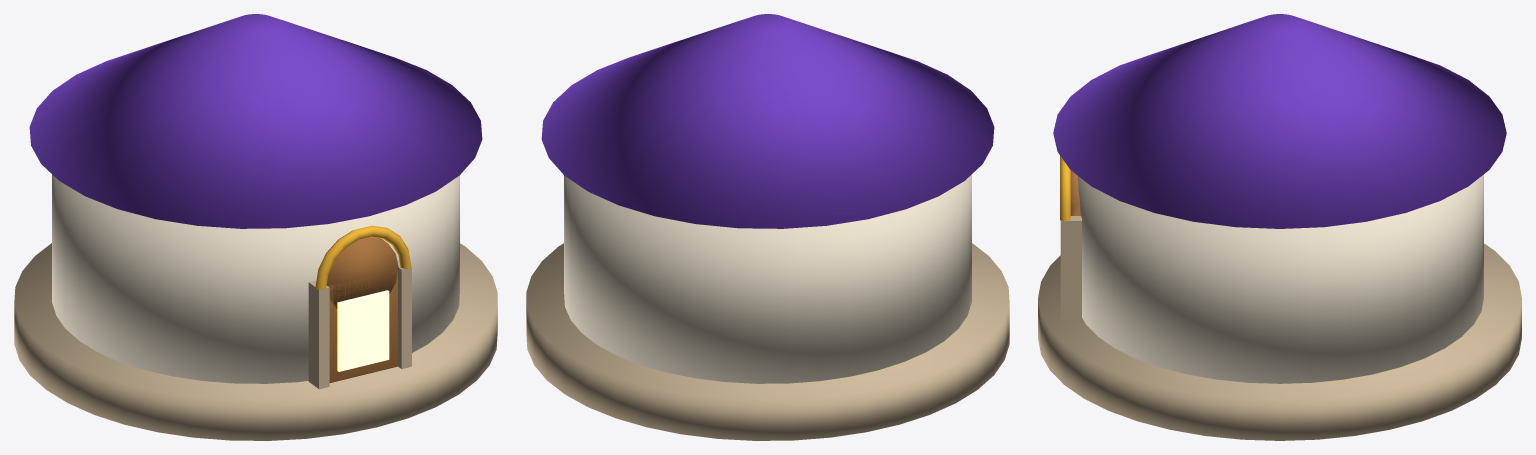
The model's file is obs_1.glb.
3 renders of one model, left to right at view 1: azimuth 30°, elevation 25°; view 2: azimuth 150°, elevation 25°; view 3: azimuth 270°, elevation 25°, orthographic.
Visible parts, largest first — view 1: Obs.001; view 2: Obs.001; view 3: Obs.001.
Boxes of the visible parts, x1=… form: Obs.001: x1=14, y1=14, x2=497, y2=440; Obs.001: x1=526, y1=14, x2=1009, y2=440; Obs.001: x1=1038, y1=14, x2=1521, y2=440.
Size of the model in its own units: 3.2 by 2.3 by 3.2.
